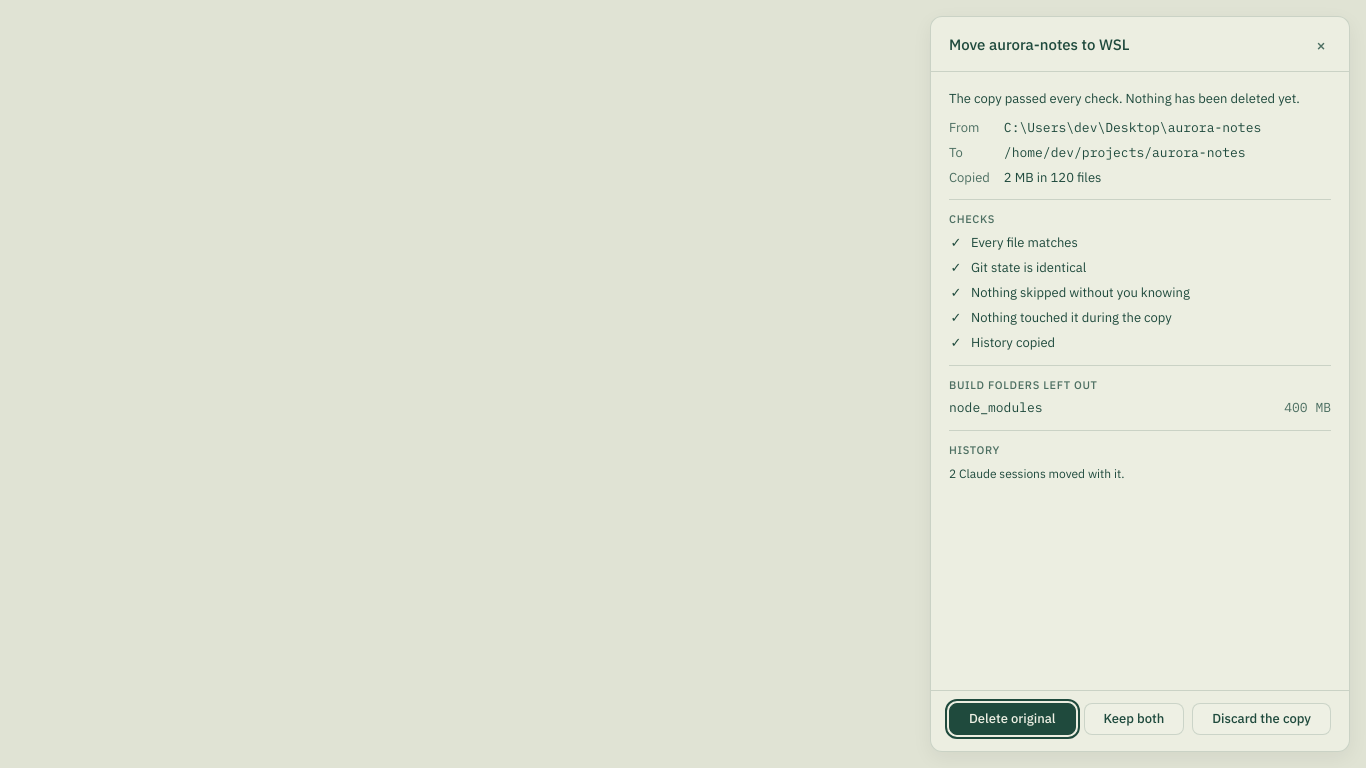
Test: MoveDialog report › offers only Keep both when the copy changed after the check
Click the button "Delete original".
click(1012, 719)  # box [949,703,1076,735]
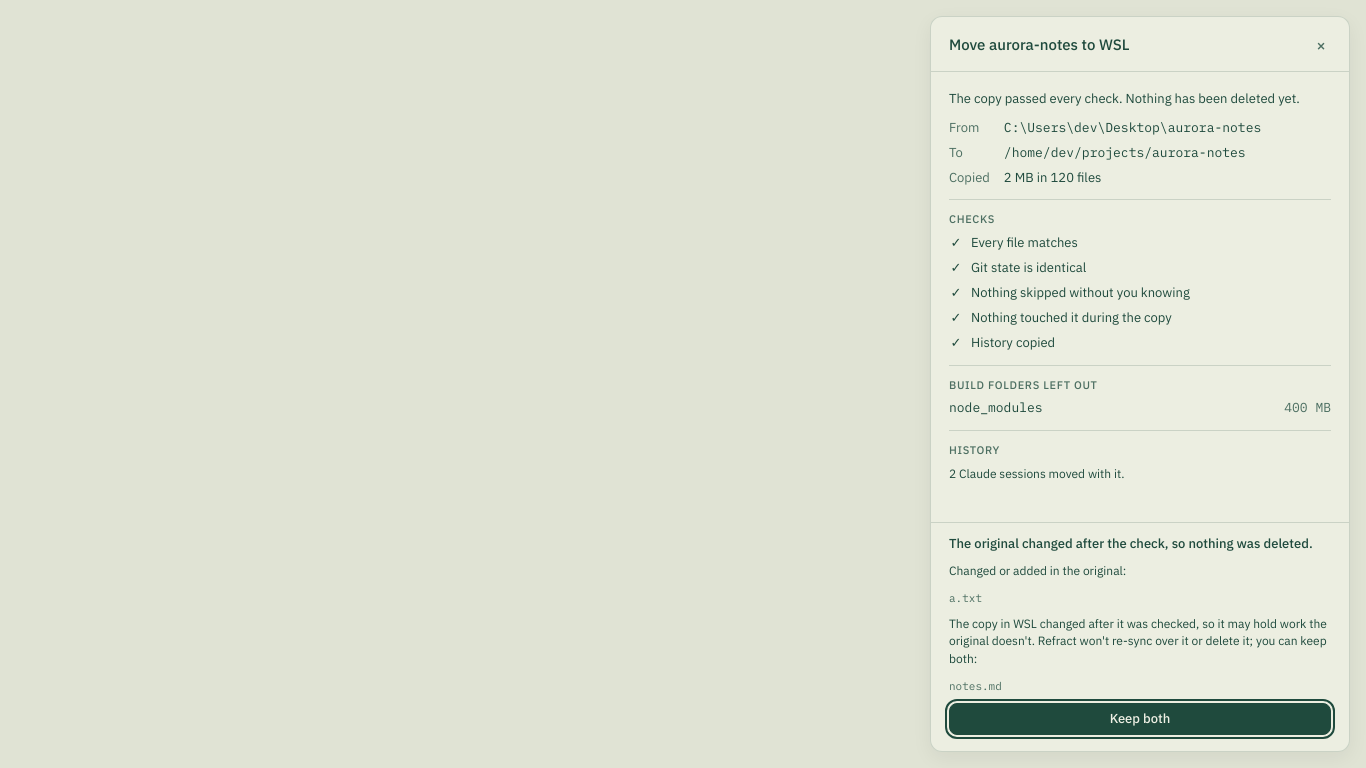
Result: the dialog shows "The copy in WSL changed" at [949,616,1327,666]
Result: the button "Discard the copy" is gone
